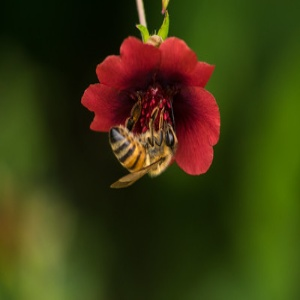bee: (110, 127, 177, 190)
